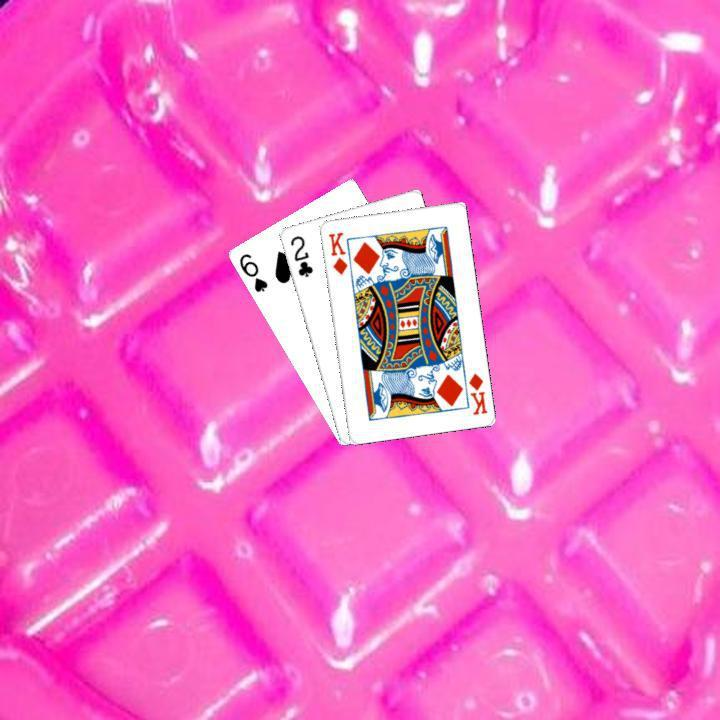2: (285, 231, 315, 279)
6: (234, 249, 269, 294)
K: (324, 227, 349, 277), (464, 369, 489, 416)
